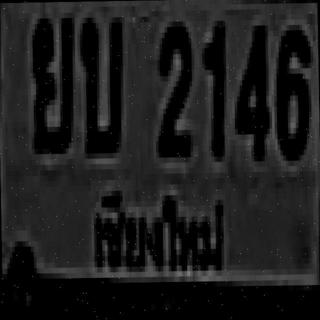A26: (77, 12, 121, 148)
A34: (29, 13, 74, 149)
N01: (201, 18, 225, 154)
N02: (154, 16, 190, 152)
N04: (233, 20, 267, 156)
N06: (272, 24, 310, 156)
P11: (84, 182, 237, 286)
